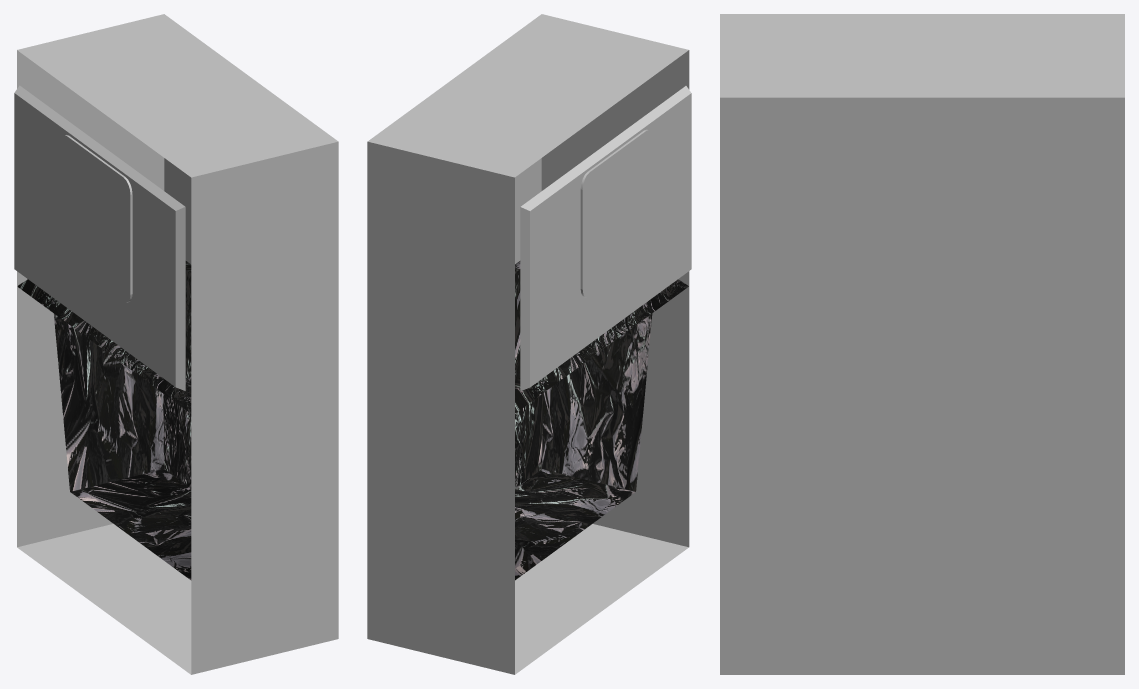
Rendered from Vagon_WC_Equipment_trash.fbx.
3 renders of one model, left to right at view 1: azimuth 30°, elevation 25°; view 2: azimuth 150°, elevation 25°; view 3: azimuth 270°, elevation 25°, orthographic. The views are drawn at different scales.
Visible parts, largest first — view 1: Vagon_body_inner_WC_A_trash, paket, Vagon_WC_Equipment_02.001, Vagon_Labels_SkewCorridor_01.002; view 2: Vagon_body_inner_WC_A_trash, paket, Vagon_WC_Equipment_02.001, Vagon_Labels_SkewCorridor_01.002; view 3: Vagon_body_inner_WC_A_trash.
Part boxes in pixels (x1,y1,x2,y2): Vagon_body_inner_WC_A_trash: (17,14,338,674); paket: (17,261,191,580); Vagon_WC_Equipment_02.001: (14,85,185,390); Vagon_Labels_SkewCorridor_01.002: (60,135,132,302); Vagon_body_inner_WC_A_trash: (367,14,689,674); paket: (515,261,688,580); Vagon_WC_Equipment_02.001: (520,86,691,391); Vagon_Labels_SkewCorridor_01.002: (580,129,652,297); Vagon_body_inner_WC_A_trash: (720,14,1124,674).
Size of the model in its own units: 20.87 by 11.04 by 32.85.
